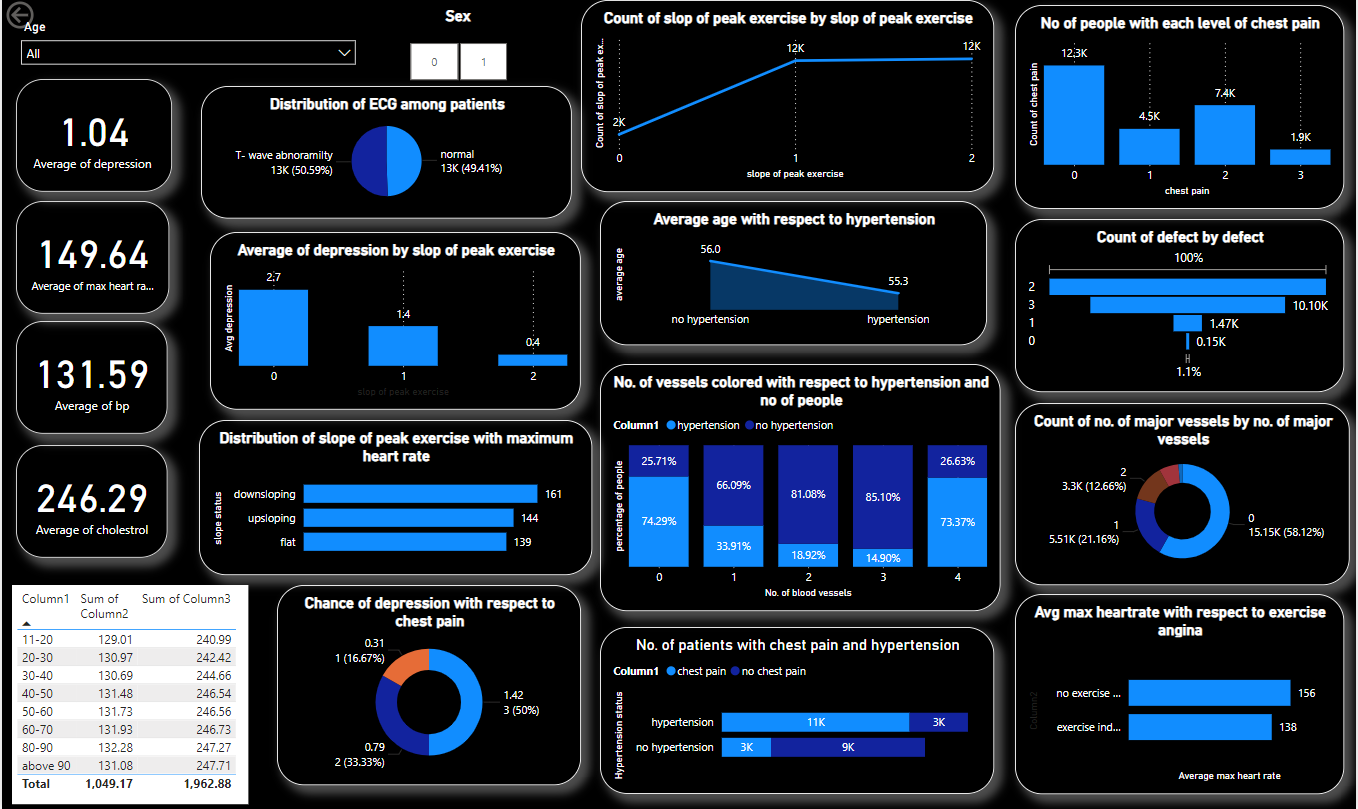

Layout of this report page (visuals, bound fields, positions):
{"tool":"powerbi","page":{"name":"Page 1","canvas":[1500,900],"ordinal":0},"visuals":[{"type":"clusteredColumnChart","title":"No of people with each level of chest pain ","fields":{"Y":["CountNonNull(cleaned_hypertension.chest pain)"],"Category":["cleaned_hypertension.chest pain"]},"box":[1122.8,8.9,364.7,226.1],"z":0},{"type":"card","fields":{"Values":["Avg(cleaned_hypertension.cholestrol)"]},"box":[15.5,496.6,168.5,125.2],"z":1000},{"type":"card","fields":{"Values":["Avg(cleaned_hypertension.bp)"]},"box":[15.5,359.1,168.5,125.2],"z":2000},{"type":"card","fields":{"Values":["Avg(cleaned_hypertension.max heart rate )"]},"box":[15.5,226.1,169.6,125.2],"z":3000},{"type":"card","fields":{"Values":["Avg(cleaned_hypertension.depression )"]},"box":[15.5,90.9,172.9,125.2],"z":4000},{"type":"lineChart","fields":{"Category":["cleaned_hypertension.slop of peak exercise"],"Y":["CountNonNull(cleaned_hypertension.slop of peak exercise)"]},"box":[641.7,3.3,457.8,212.8],"z":5000},{"type":"funnel","fields":{"Category":["cleaned_hypertension.defect"],"Y":["CountNonNull(cleaned_hypertension.defect)"]},"box":[1122.8,246.1,364.7,191.7],"z":6000},{"type":"donutChart","fields":{"Category":["cleaned_hypertension.no. of major vessels"],"Y":["CountNonNull(cleaned_hypertension.no. of major vessels)"]},"box":[1122.8,450,371.3,201.7],"z":7000},{"type":"areaChart","title":"Average age with respect to hypertension","fields":{"Category":["Table.Column1"],"Y":["Sum(Table.Column2)"]},"box":[662.8,226.1,428.9,159.6],"z":8000},{"type":"pieChart","title":"Distribution of ECG among patients","fields":{"Y":["Sum(Table (2).Column2)"],"Series":["Table (2).Column1"]},"box":[220.6,98.6,411.2,147.4],"z":9000},{"type":"barChart","title":"Avg max heartrate with respect to exercise angina","fields":{"Category":["Table (3).Column2"],"Y":["Sum(Table (3).Column1)"]},"box":[1122.8,661.7,364.7,221.7],"z":10000},{"type":"columnChart","fields":{"Category":["cleaned_hypertension.slop of peak exercise"],"Y":["cleaned_hypertension.depression "]},"box":[230.5,260.5,411.2,197.3],"z":11000},{"type":"actionButton","box":[0,0,100,40],"z":12000},{"type":"slicer","title":"Sex","fields":{"Values":["cleaned_hypertension.sex"]},"box":[426.7,11.1,157.4,87.6],"z":13000},{"type":"slicer","fields":{"Values":["cleaned_hypertension.age"]},"box":[11.1,20,391.3,87.6],"z":14000},{"type":"donutChart","title":"Chance of depression with respect to chest pain ","fields":{"Category":["Table (5).Column2"],"Y":["Sum(Table (5).Column1)"]},"box":[304.8,651.7,336.9,221.7],"z":15000},{"type":"hundredPercentStackedColumnChart","title":"No. of vessels colored with respect to hypertension and no of people","fields":{"Y":["Sum(Table (6).Column3)"],"Series":["Table (6).Column1"],"Category":["Table (6).Column2"]},"box":[662.8,406.8,444.5,273.8],"z":16000},{"type":"barChart","title":"No. of patients with chest pain and hypertension","fields":{"Y":["Sum(Table (4).Column3)"],"Series":["Table (4).Column1"],"Category":["Table (4).Column2"]},"box":[662.8,698.3,436.7,185.1],"z":17000},{"type":"tableEx","fields":{"Values":["Table (7).Column1","Sum(Table (7).Column2)","Sum(Table (7).Column3)"]},"box":[11.1,651.7,261.6,242.7],"z":17001},{"type":"barChart","title":"Distribution of slope of peak exercise with maximum heart rate ","fields":{"Y":["Sum(Table (8).Column2)"],"Category":["Table (8).Column1"]},"box":[218.3,468.8,435.6,171.8],"z":17002}]}

Visuals, with their boxes in screenshot pixels (x1, y1, x2, y2), scaled from the page's 1500x900 canvas onto the 1358x809 screenshot:
"No of people with each level of chest pain " clusteredColumnChart: (1017, 8, 1347, 211)
card - Avg(cleaned_hypertension.cholestrol): (14, 446, 167, 559)
card - Avg(cleaned_hypertension.bp): (14, 323, 167, 435)
card - Avg(cleaned_hypertension.max heart rate ): (14, 203, 168, 316)
card - Avg(cleaned_hypertension.depression ): (14, 82, 171, 194)
lineChart - cleaned_hypertension.slop of peak exercise x CountNonNull(cleaned_hypertension.slop of peak exercise): (581, 3, 995, 194)
funnel - cleaned_hypertension.defect x CountNonNull(cleaned_hypertension.defect): (1017, 221, 1347, 394)
donutChart - cleaned_hypertension.no. of major vessels x CountNonNull(cleaned_hypertension.no. of major vessels): (1017, 404, 1353, 586)
"Average age with respect to hypertension" areaChart: (600, 203, 988, 347)
"Distribution of ECG among patients" pieChart: (200, 89, 572, 221)
"Avg max heartrate with respect to exercise angina" barChart: (1017, 595, 1347, 794)
columnChart - cleaned_hypertension.slop of peak exercise x cleaned_hypertension.depression : (209, 234, 581, 412)
actionButton: (0, 0, 91, 36)
"Sex" slicer: (386, 10, 529, 89)
slicer - cleaned_hypertension.age: (10, 18, 364, 97)
"Chance of depression with respect to chest pain " donutChart: (276, 586, 581, 785)
"No. of vessels colored with respect to hypertension and no of people" hundredPercentStackedColumnChart: (600, 366, 1002, 612)
"No. of patients with chest pain and hypertension" barChart: (600, 628, 995, 794)
tableEx - Table (7).Column1 x Sum(Table (7).Column2): (10, 586, 247, 804)
"Distribution of slope of peak exercise with maximum heart rate " barChart: (198, 421, 592, 576)
